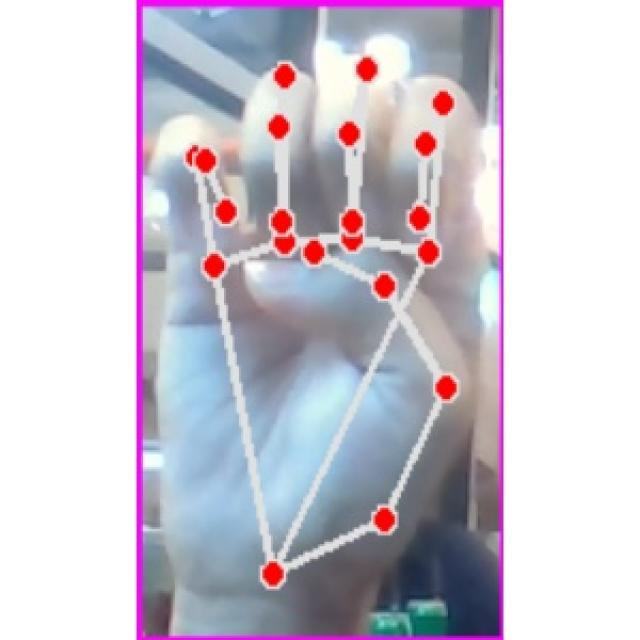E: (148, 42, 494, 596)
